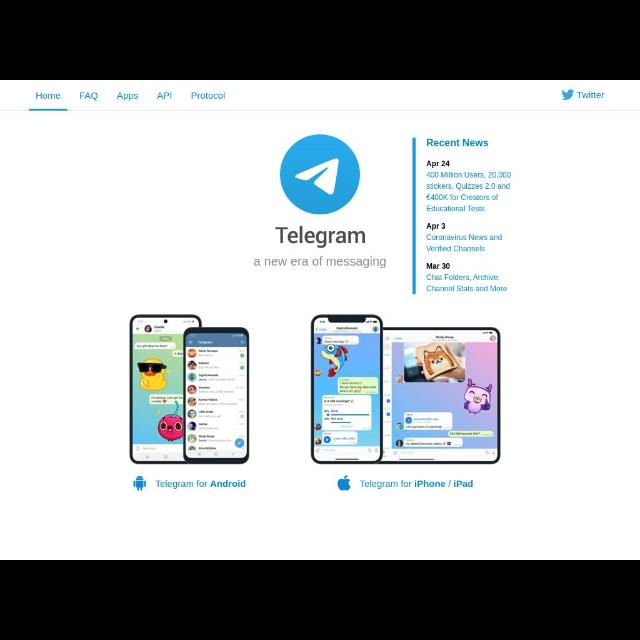icon: (334, 474, 352, 492), (131, 475, 147, 491), (561, 87, 575, 101)
image: (302, 308, 503, 468), (118, 308, 256, 470), (277, 134, 363, 218)
link: (426, 170, 512, 213), (426, 272, 510, 294), (425, 233, 505, 254)
multitab: (1, 81, 638, 111)
text: (274, 223, 368, 247), (252, 255, 388, 269), (359, 478, 475, 490), (154, 478, 248, 488), (426, 136, 488, 148), (190, 90, 228, 100), (577, 90, 605, 100), (78, 90, 100, 102), (426, 158, 452, 168), (426, 260, 450, 270), (34, 92, 62, 100), (156, 91, 174, 102), (116, 92, 138, 100), (426, 222, 446, 230)
